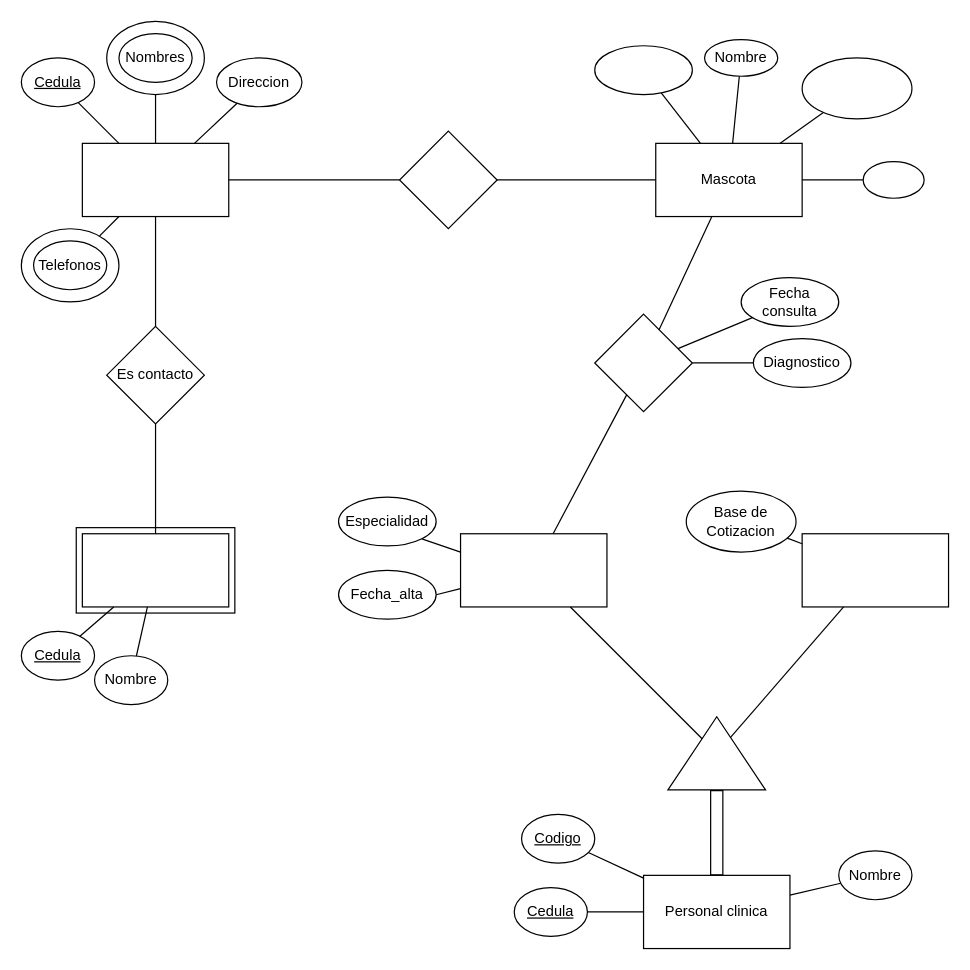
The diagram is 970 pixels wide and 970 high, and some of its shapes have lost their labels. The centre of each missing label's shape, as x and y in pixels:
"Auxiliar" goes at point 875,570.
"Familiar" goes at point 155,570.
"Fecha de Nacimiento" goes at point 856,88.
"Identificador" goes at point 643,70.
"Lleva" goes at point 447,179.
"Pasa consulta" goes at point 643,362.
"Propietario" goes at point 155,179.
"Tipo" goes at point 893,179.
"Veterinario" goes at point 533,570.
